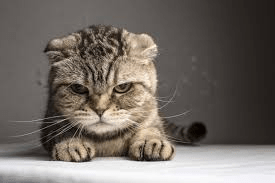cat: (42, 25, 207, 158)
